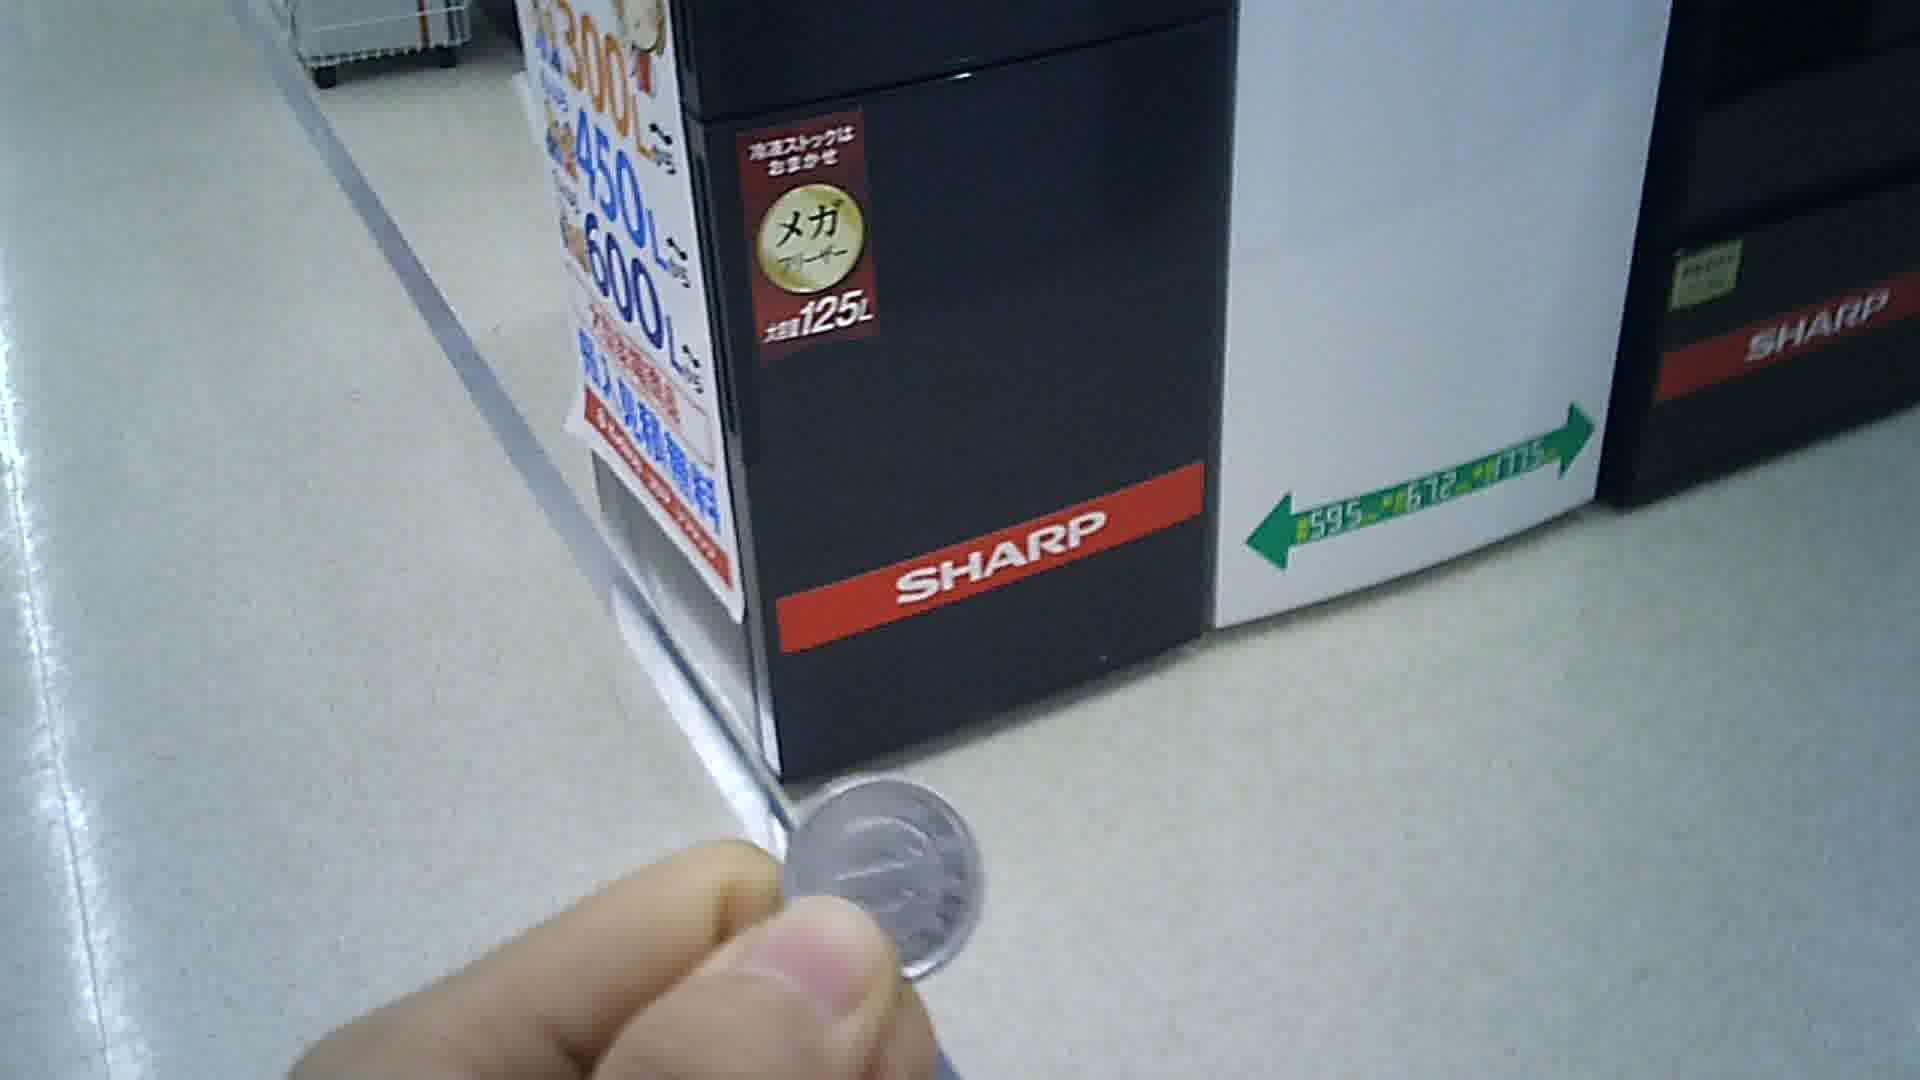1 Yen: (770, 773, 996, 984)
